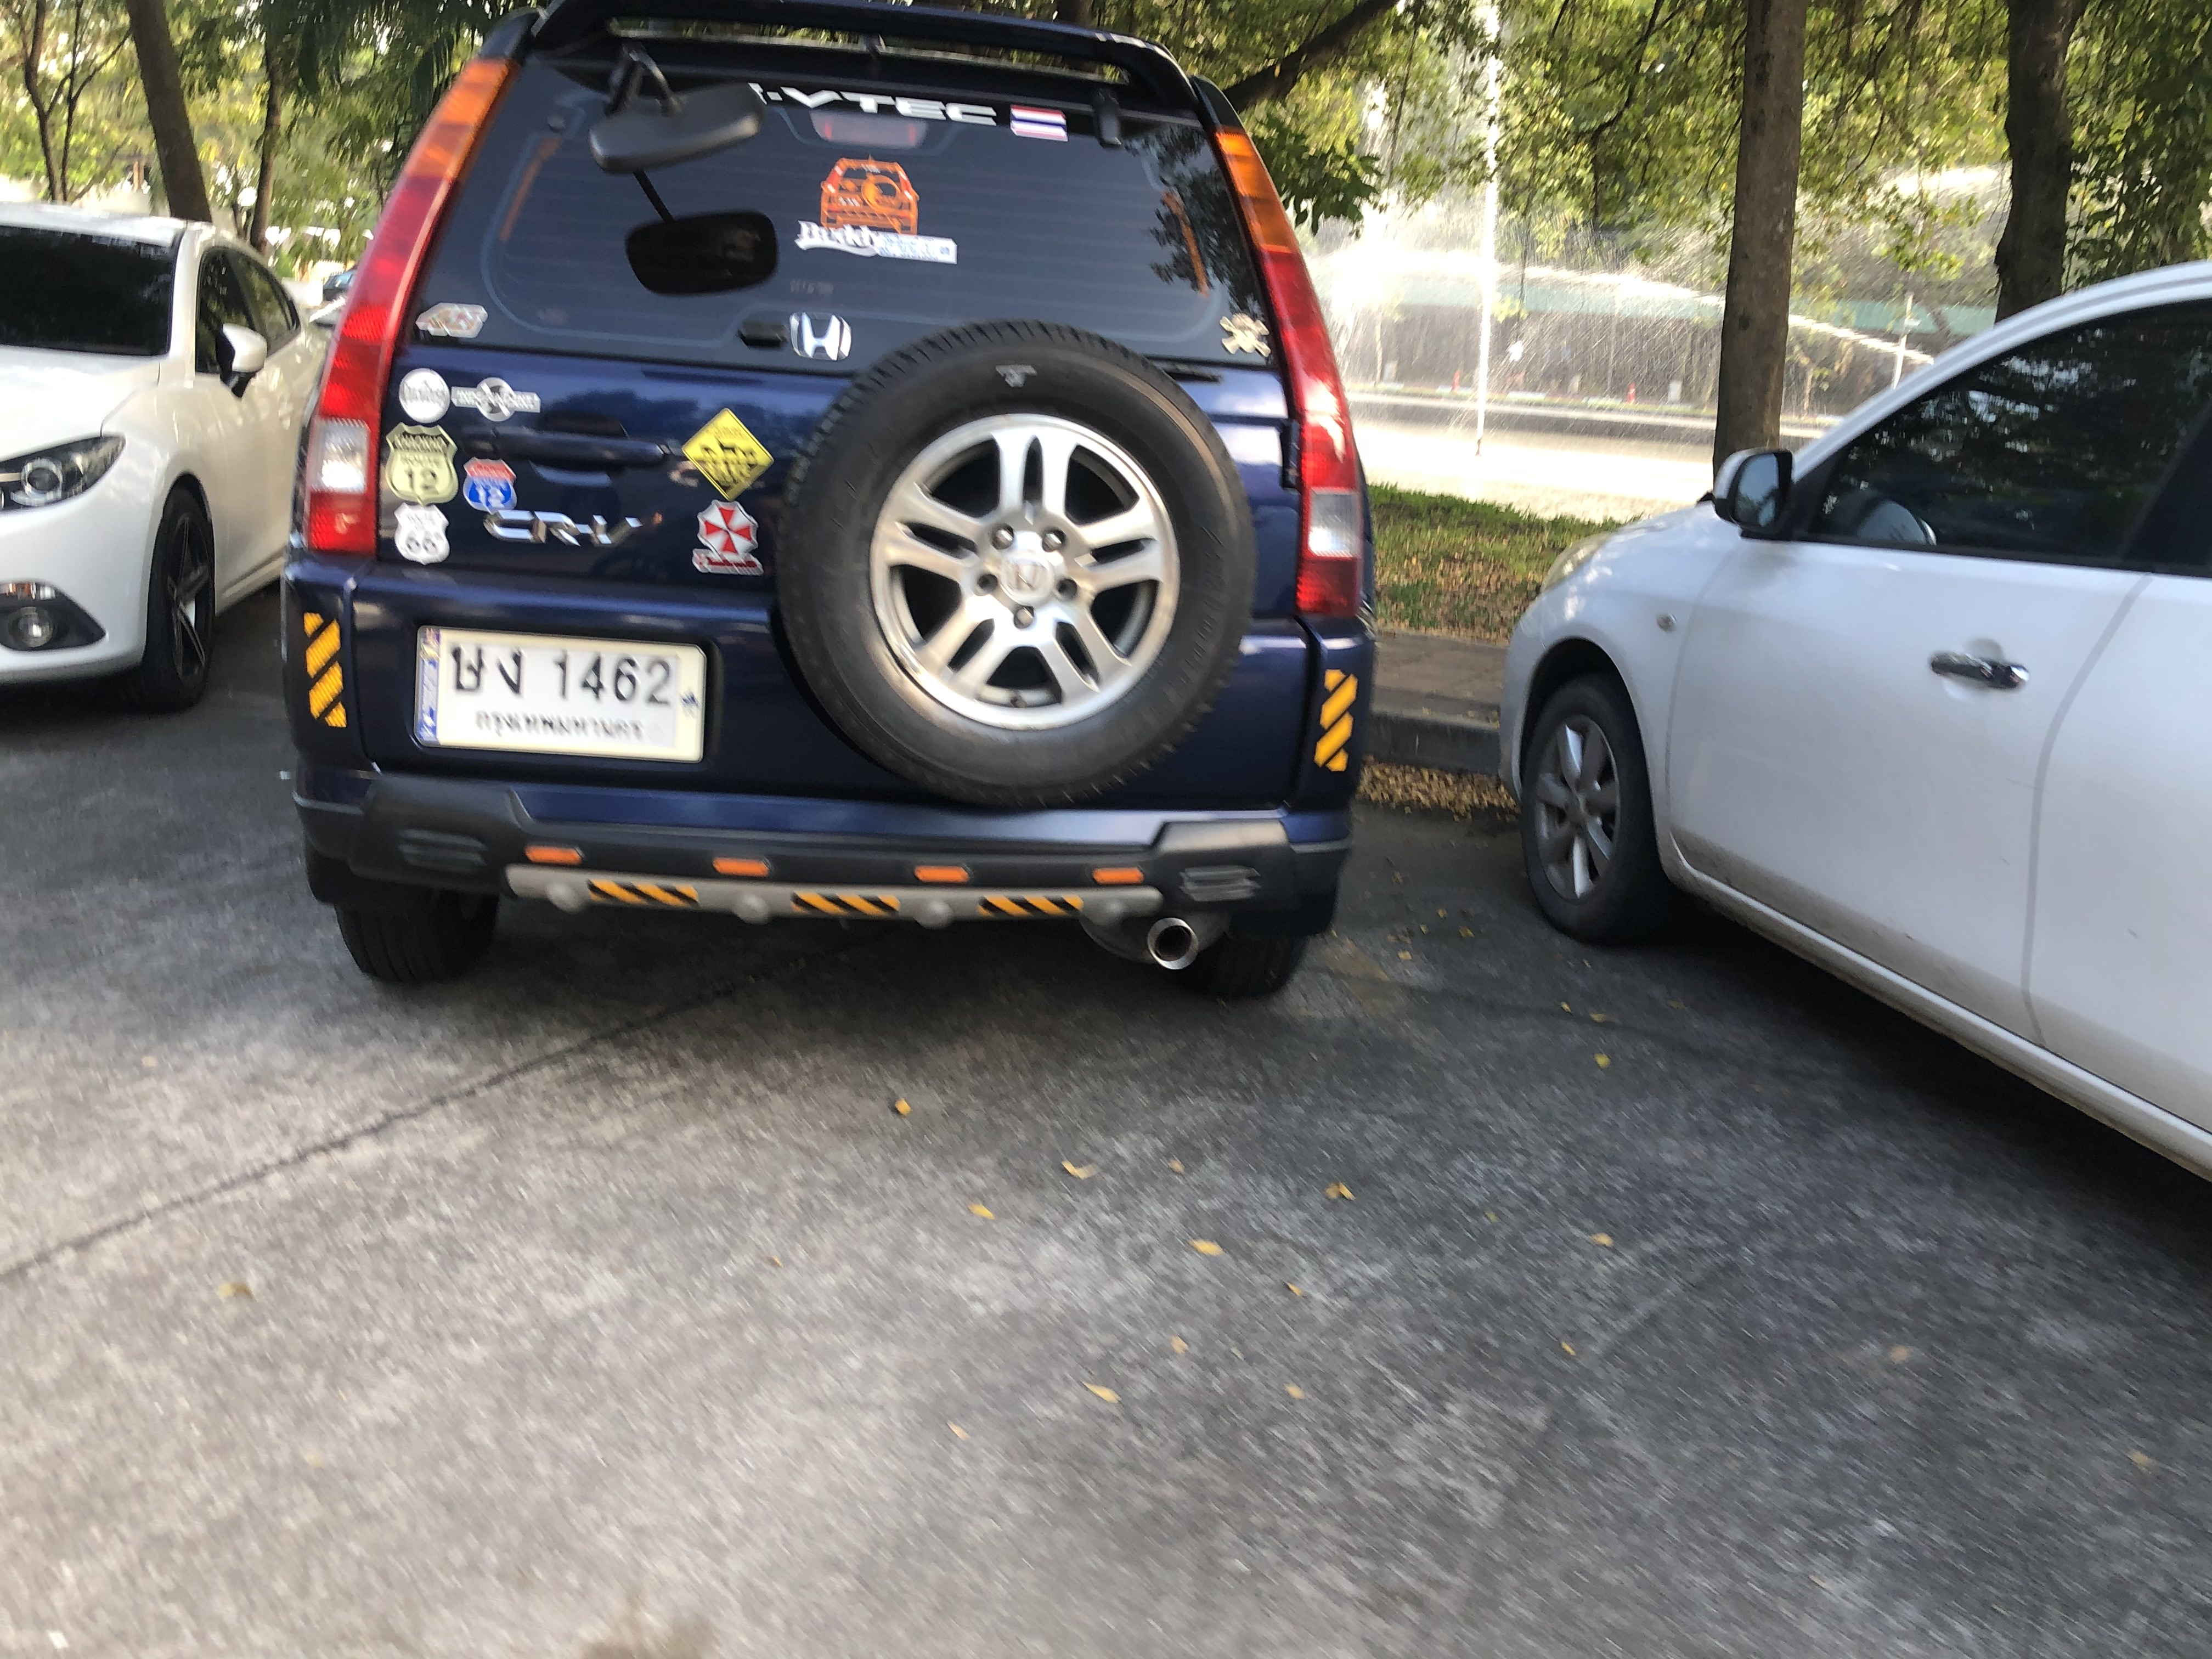in: (444, 641, 674, 746)
out: (406, 613, 721, 781)
